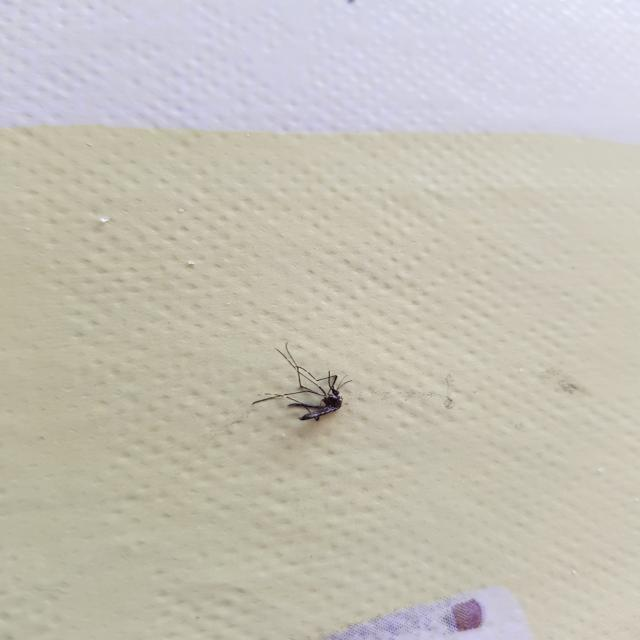albopictus: (248, 340, 358, 424)
